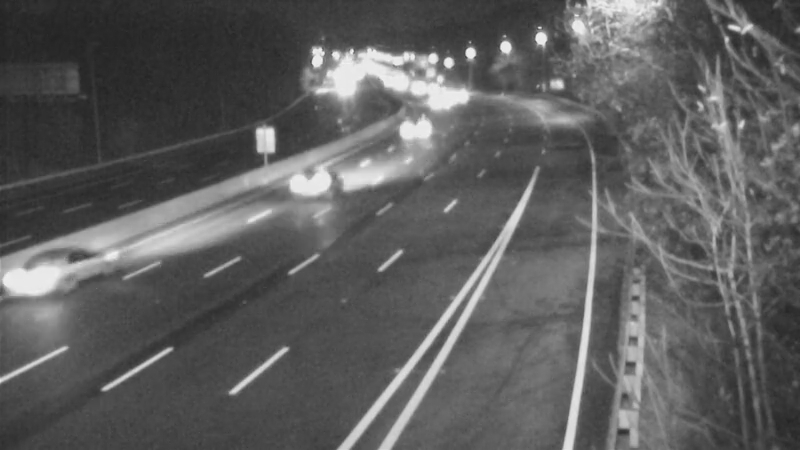vehicle: (273, 144, 353, 224), (1, 231, 81, 311), (415, 81, 465, 131), (385, 103, 435, 153)
